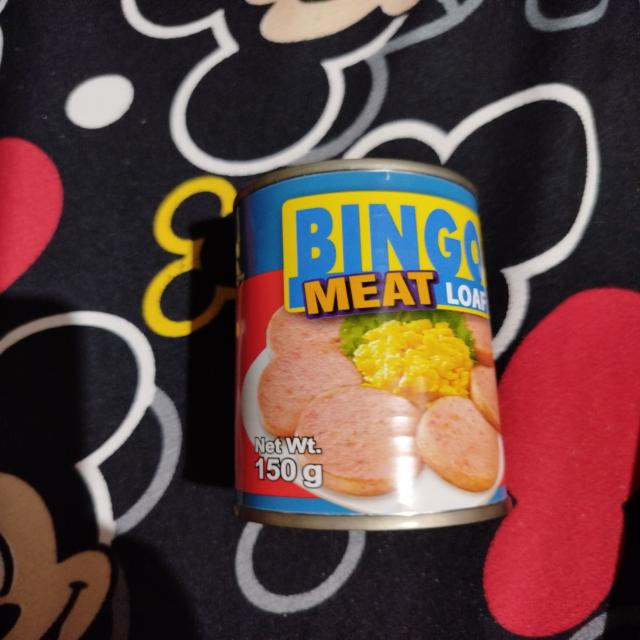metal: (201, 141, 547, 553)
